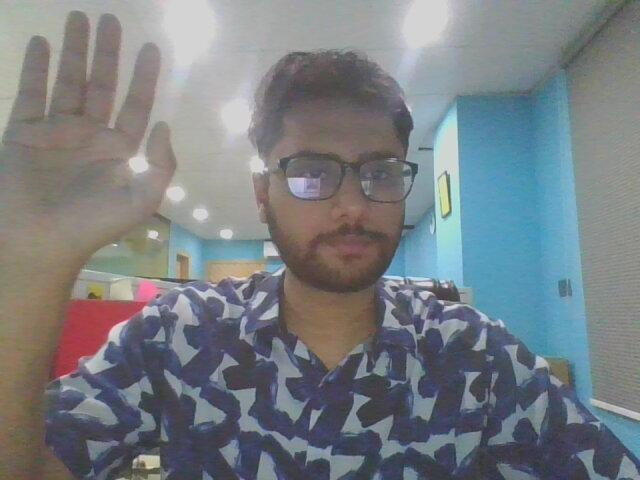hello: (1, 1, 192, 312)
